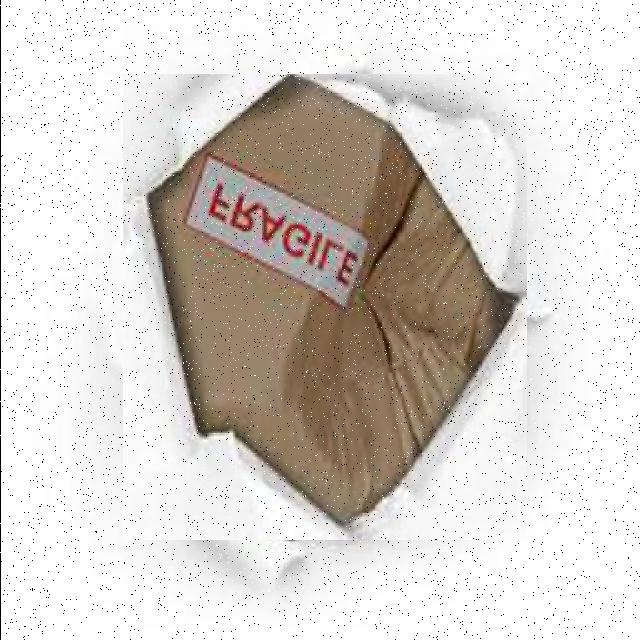defect: (122, 74, 526, 540)
